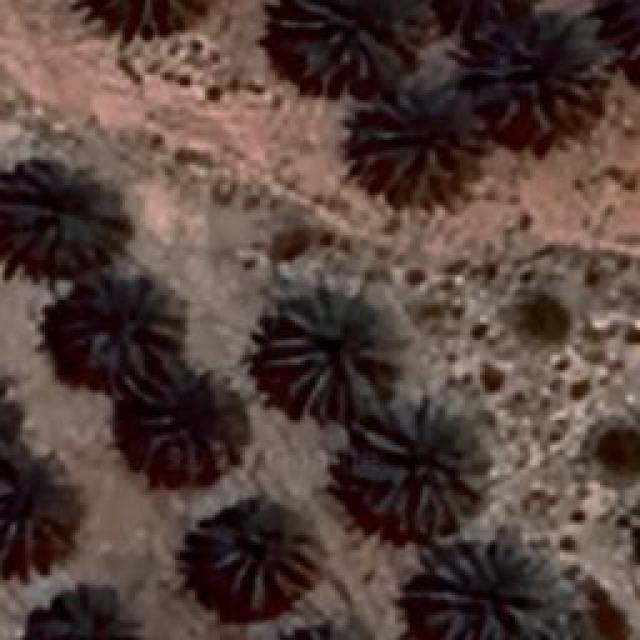PalmTree: (348, 395, 482, 530), (262, 290, 400, 420), (352, 80, 486, 208), (190, 494, 320, 608), (480, 10, 600, 125), (274, 0, 427, 85), (124, 370, 246, 472), (9, 160, 122, 270), (418, 542, 540, 638), (64, 266, 174, 366), (3, 456, 71, 576), (68, 0, 235, 42), (24, 583, 142, 640), (482, 611, 610, 640), (601, 0, 640, 89)
